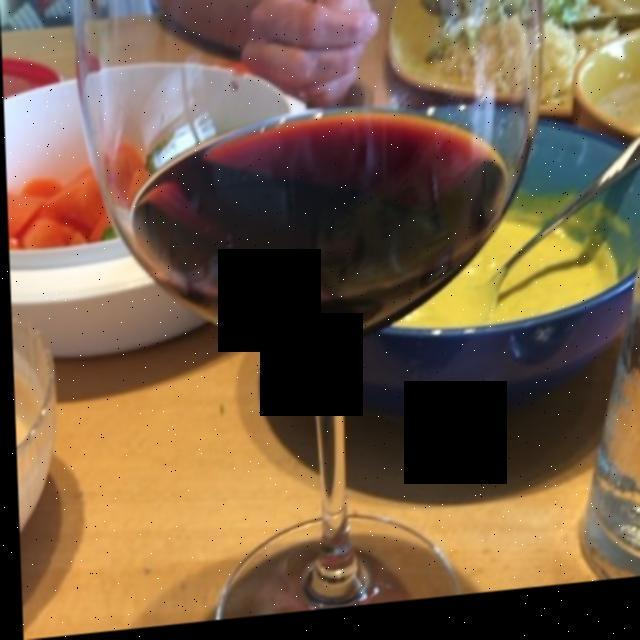wine: (124, 127, 521, 342)
